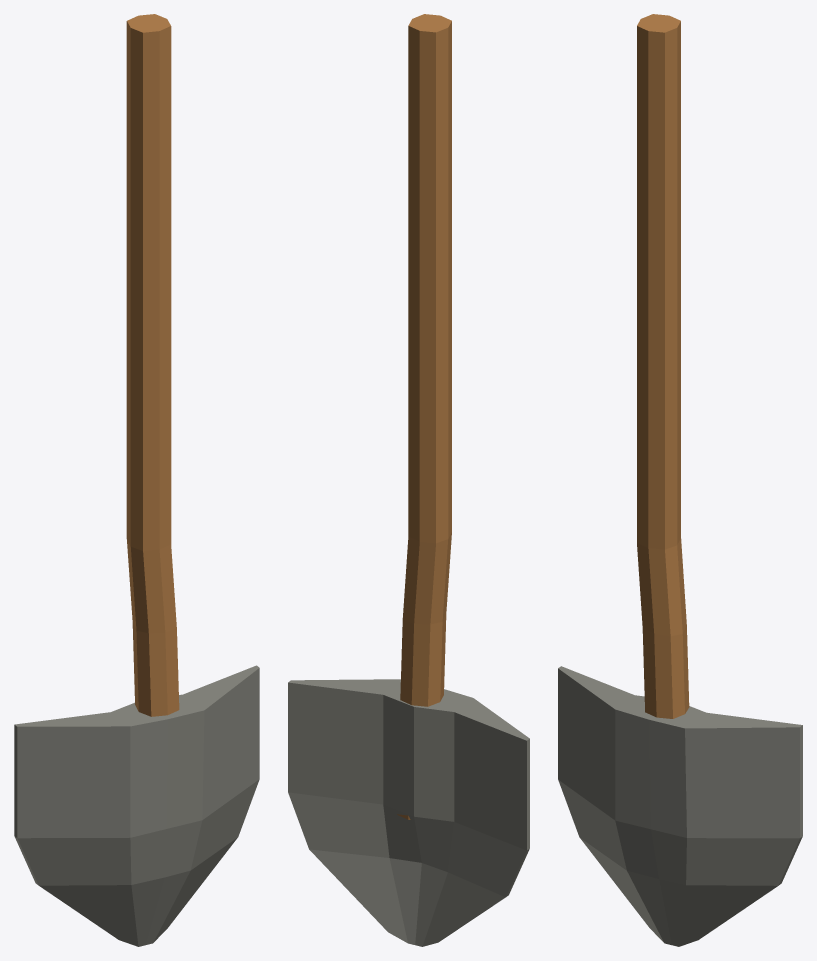
File: Shovel.fbx
The picture shows the model from 3 angles, left to right: view 1: azimuth 30°, elevation 25°; view 2: azimuth 150°, elevation 25°; view 3: azimuth 330°, elevation 25°; orthographic projection.
Parts seen in each view (by area): view 1: Shovel; view 2: Shovel; view 3: Shovel.
Boxes of the visible parts, bbox=[...] form: Shovel: bbox=[14, 14, 259, 946]; Shovel: bbox=[288, 14, 529, 946]; Shovel: bbox=[558, 14, 802, 946].
Bounding box in the file's own units: 1.63 × 5.98 × 0.3855.
